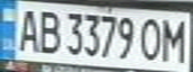3: (60, 9, 84, 56), (81, 10, 103, 57)
7: (100, 12, 118, 59)
9: (115, 14, 139, 61)
A: (12, 6, 42, 53)
B: (33, 7, 63, 55)
M: (160, 15, 190, 63)
O: (136, 15, 166, 62)
